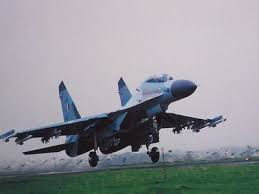maybay_muctieu: (10, 79, 222, 163)
